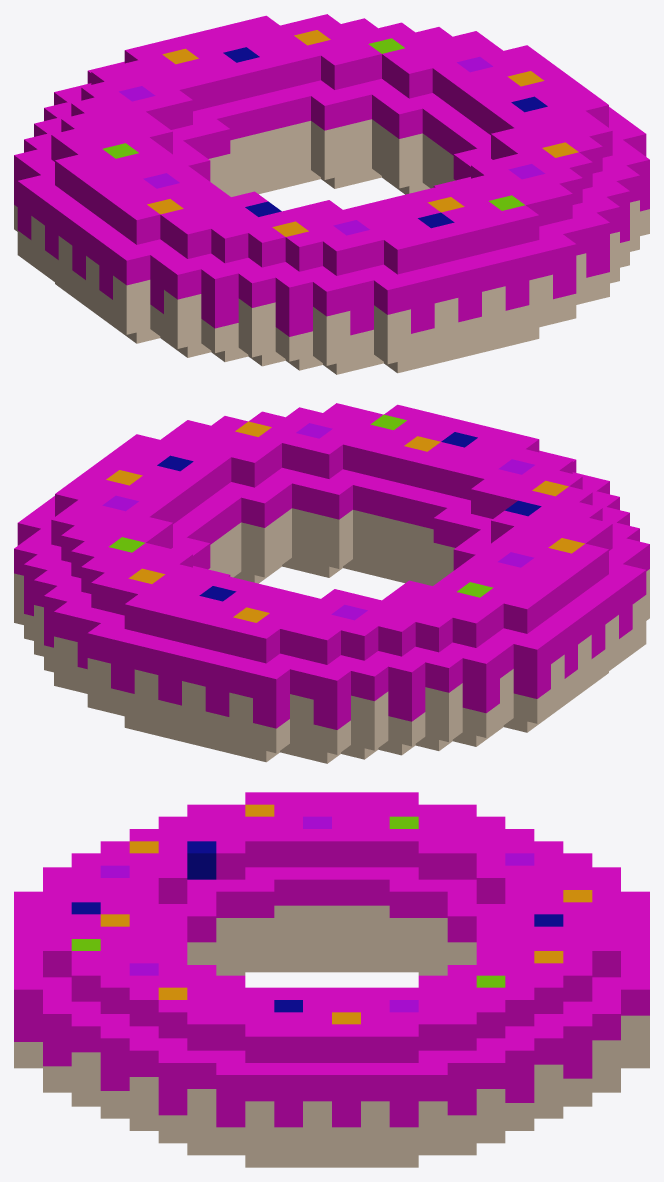
The model's file is donut.glb.
The picture shows the model from 3 angles, top to bottom: view 1: azimuth 30°, elevation 25°; view 2: azimuth 150°, elevation 25°; view 3: azimuth 270°, elevation 25°; orthographic projection. The views are drawn at different scales.
Parts seen in each view (by area): view 1: VoxTransform; view 2: VoxTransform; view 3: VoxTransform.
Part boxes in pixels (left/top/right/bottom): VoxTransform: left=14, top=14, right=649, bottom=374; VoxTransform: left=14, top=403, right=649, bottom=763; VoxTransform: left=14, top=792, right=649, bottom=1167.
Bounding box in the file's own units: 22 × 5 × 22.
